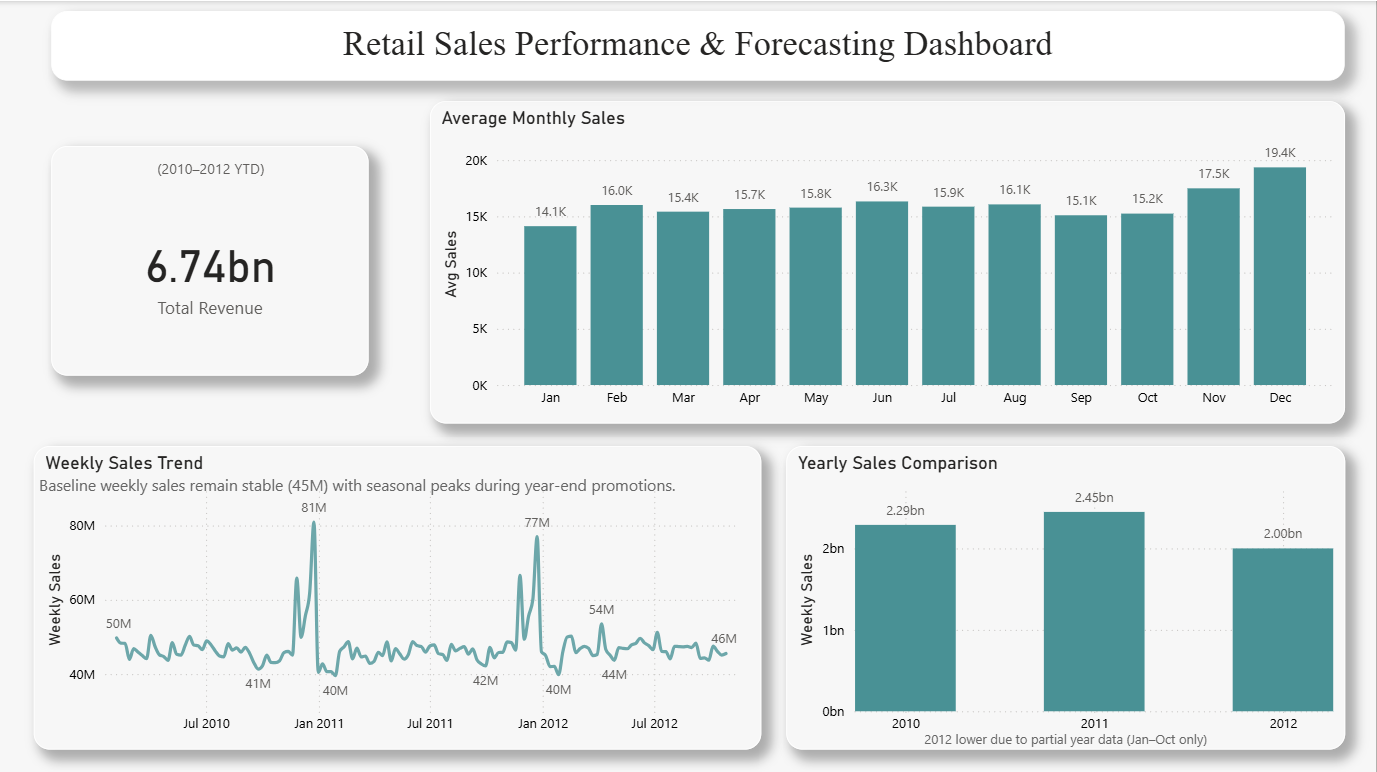

This screenshot's page, from the dashboard's own definition file:
{"tool":"powerbi","page":{"name":"Overview","canvas":[1280,720],"ordinal":0},"visuals":[{"type":"lineChart","title":"Weekly Sales Trend","fields":{"Y":["Sum(cleaned_data.Weekly_Sales)"],"Category":["cleaned_data.Date"]},"box":[31.4,414,676.7,282.6],"z":0},{"type":"clusteredColumnChart","title":"Average Monthly Sales","fields":{"Y":["Avg(cleaned_data.Weekly_Sales)"],"Category":["cleaned_data.Month Name"]},"box":[400,93,851.2,300],"z":1000},{"type":"card","fields":{"Values":["Sum(cleaned_data.Weekly_Sales)"]},"box":[47.7,134.9,295.3,214],"z":2000},{"type":"clusteredColumnChart","title":"Yearly Sales Comparison","fields":{"Category":["cleaned_data.Year"],"Y":["Sum(cleaned_data.Weekly_Sales)"]},"box":[731.4,414,519.8,282.6],"z":3000},{"type":"textbox","box":[731.4,672.1,519.8,47.7],"z":4000},{"type":"textbox","box":[31.4,434.9,676.7,40.7],"z":5000},{"type":"textbox","box":[47.7,9.3,1203.5,65.1],"z":5001}]}

Visuals, with their boxes in screenshot pixels (x1, y1, x2, y2), scaled from the page's 1280x720 canvas onto the 1377x772 screenshot:
"Weekly Sales Trend" lineChart: <region>34, 444, 762, 747</region>
"Average Monthly Sales" clusteredColumnChart: <region>430, 100, 1346, 421</region>
card - Sum(cleaned_data.Weekly_Sales): <region>51, 145, 369, 374</region>
"Yearly Sales Comparison" clusteredColumnChart: <region>787, 444, 1346, 747</region>
textbox: <region>787, 721, 1346, 771</region>
textbox: <region>34, 466, 762, 510</region>
textbox: <region>51, 10, 1346, 80</region>
